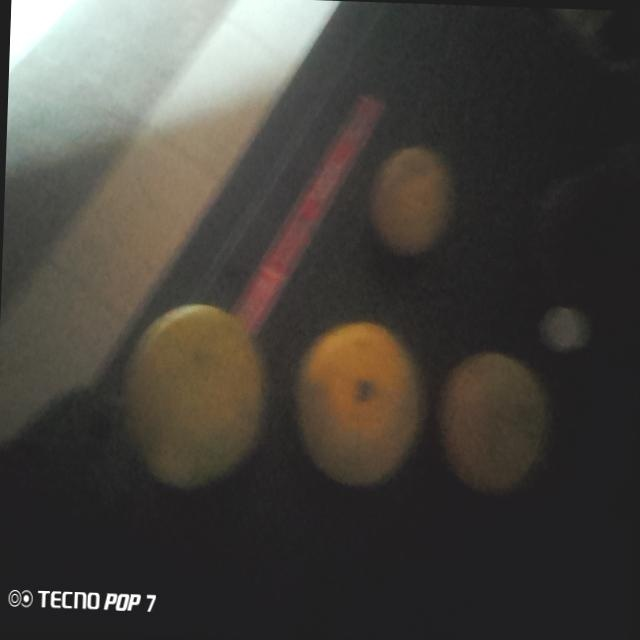agrume: (117, 296, 271, 495), (292, 314, 423, 499), (435, 352, 551, 498), (374, 152, 454, 255)
